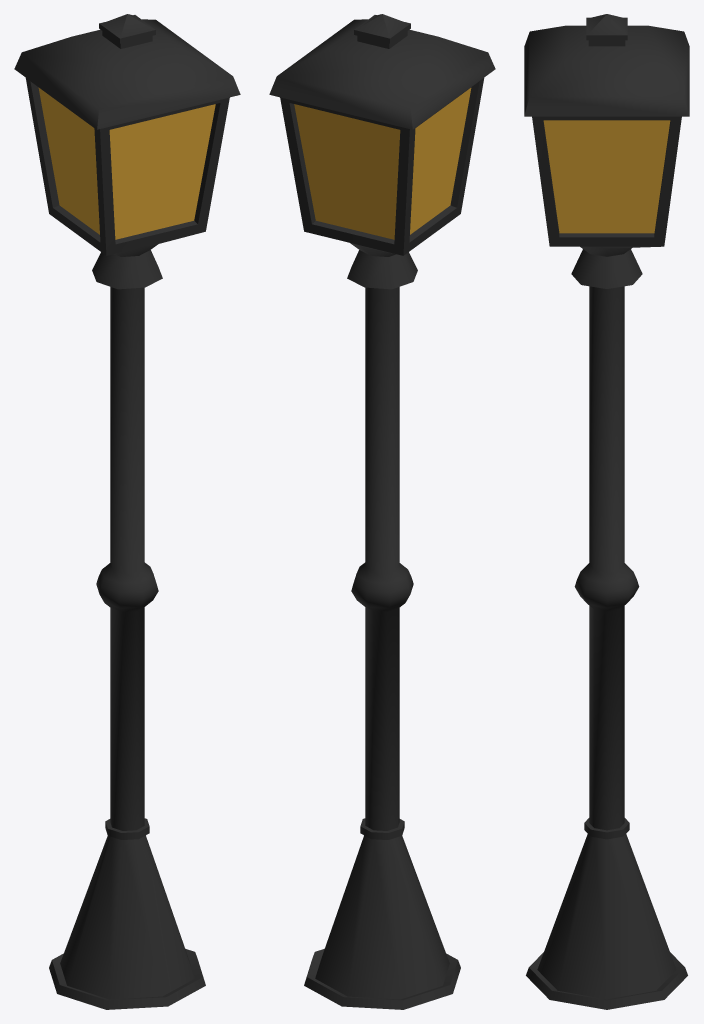
Rendered from Light.fbx.
3 renders of one model, left to right at view 1: azimuth 30°, elevation 25°; view 2: azimuth 150°, elevation 25°; view 3: azimuth 270°, elevation 25°, orthographic.
Visible parts, largest first — view 1: Poste; view 2: Poste; view 3: Poste.
Part boxes in pixels (<box>): Poste: <box>14,14,240,1009</box>; Poste: <box>269,14,495,1009</box>; Poste: <box>524,14,689,1009</box>.
Bounding box in the file's own units: 45.04 × 289 × 45.04.
